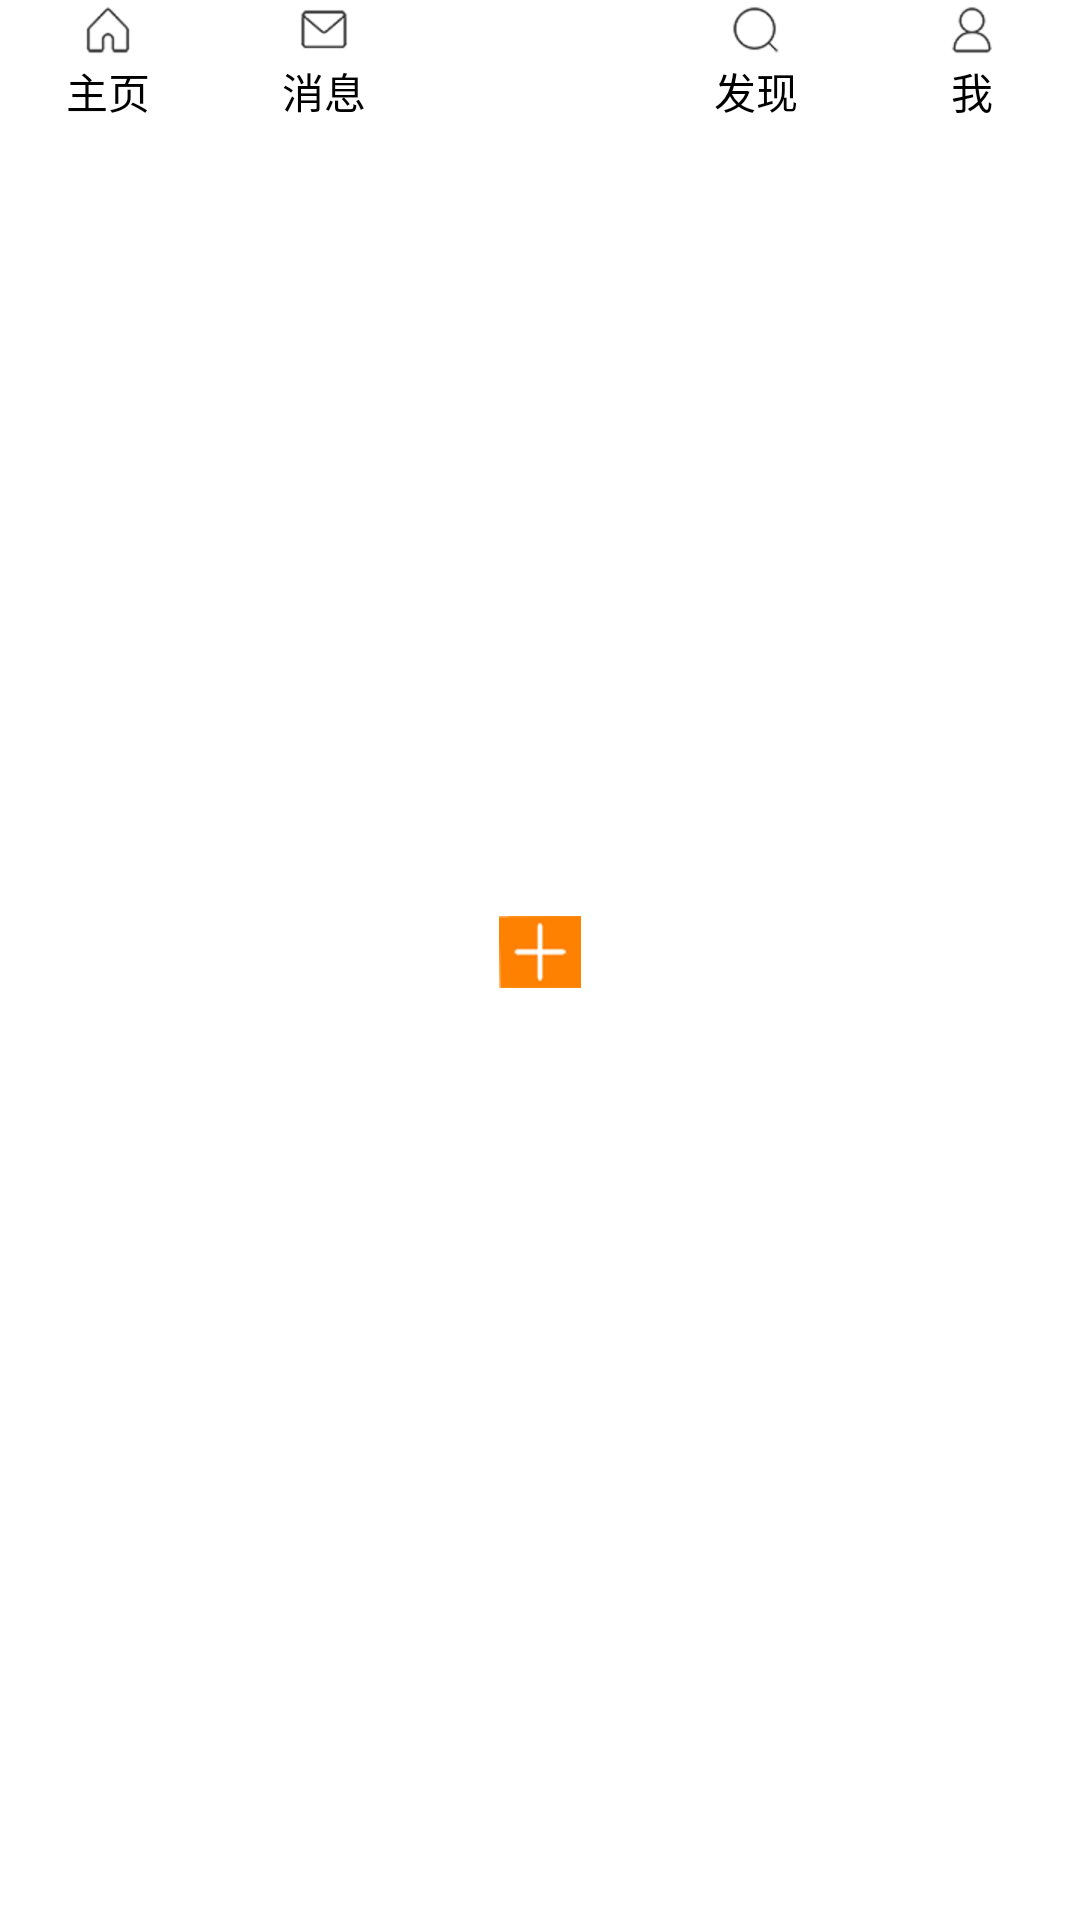

Named icons in this screenshot (1080x1920) and their bounding boxes, detection(x1, y1, x2, y2):
add: detection(499, 916, 581, 988)
